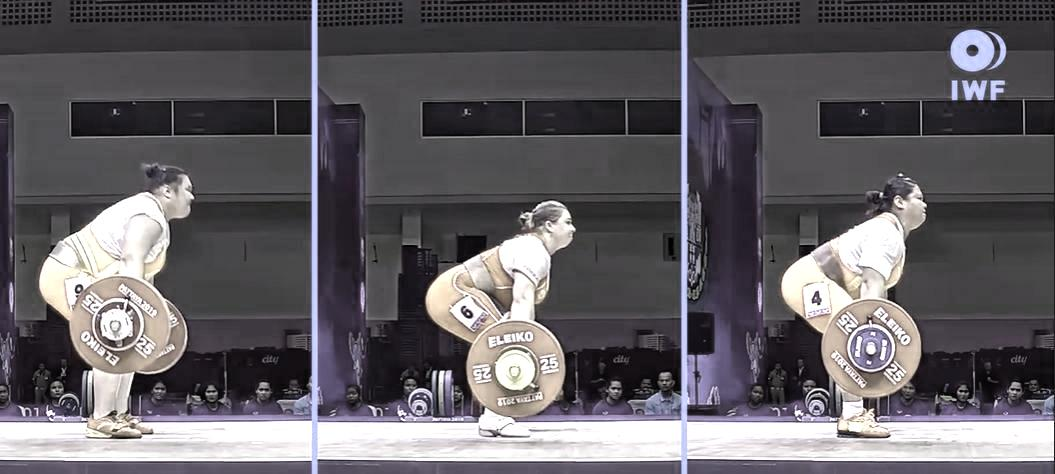Barbell: (844, 317, 901, 380), (99, 303, 141, 346), (497, 353, 541, 390)
